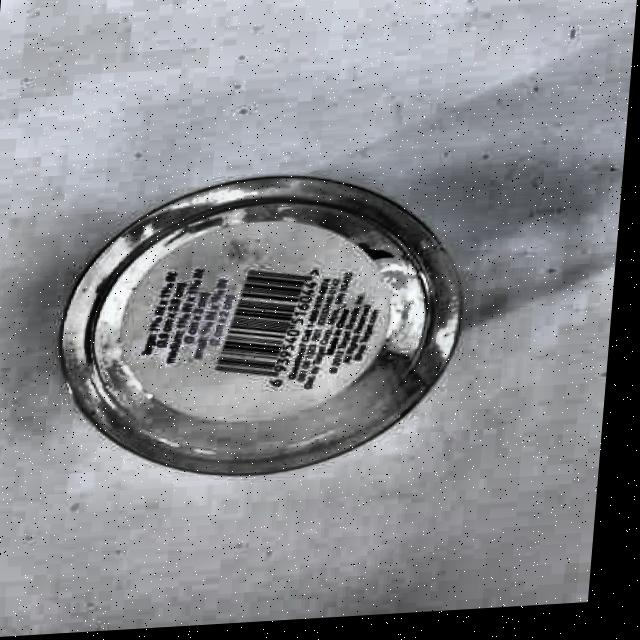plastic: (41, 160, 478, 491)
